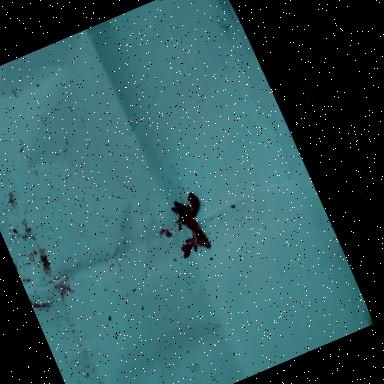pbw: (190, 222, 210, 250), (168, 196, 190, 218), (182, 210, 200, 234), (186, 228, 202, 252), (178, 242, 196, 258)
